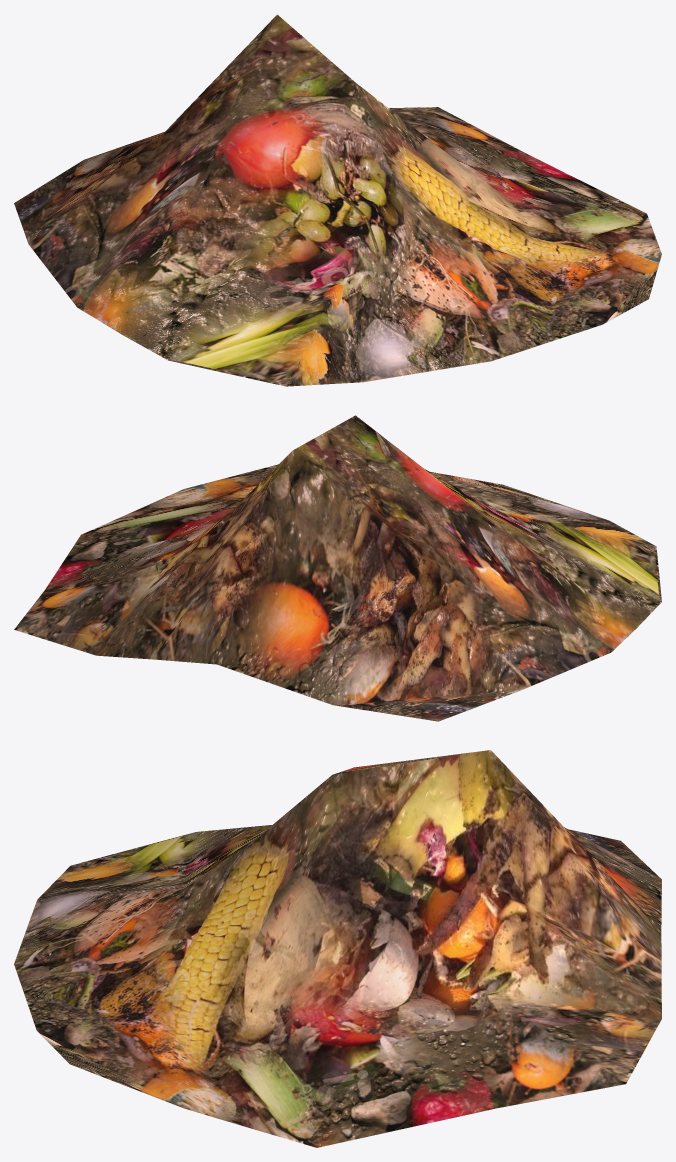
Rendered from trash .fbx.
3 views of the same model, one above another, from view 1: azimuth 30°, elevation 25°; view 2: azimuth 150°, elevation 25°; view 3: azimuth 270°, elevation 25° (orthographic). The views are drawn at different scales.
Parts seen in each view (by area): view 1: Plane.002; view 2: Plane.002; view 3: Plane.002.
Part boxes in pixels (left/top/right/bottom): Plane.002: left=14, top=14, right=661, bottom=386; Plane.002: left=14, top=415, right=661, bottom=721; Plane.002: left=14, top=750, right=661, bottom=1147.
Size of the model in its own units: 51.13 by 18.87 by 46.43.
1 material, 1 textured.
